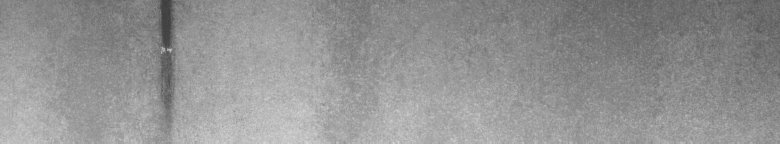hd: (154, 4, 184, 103)
